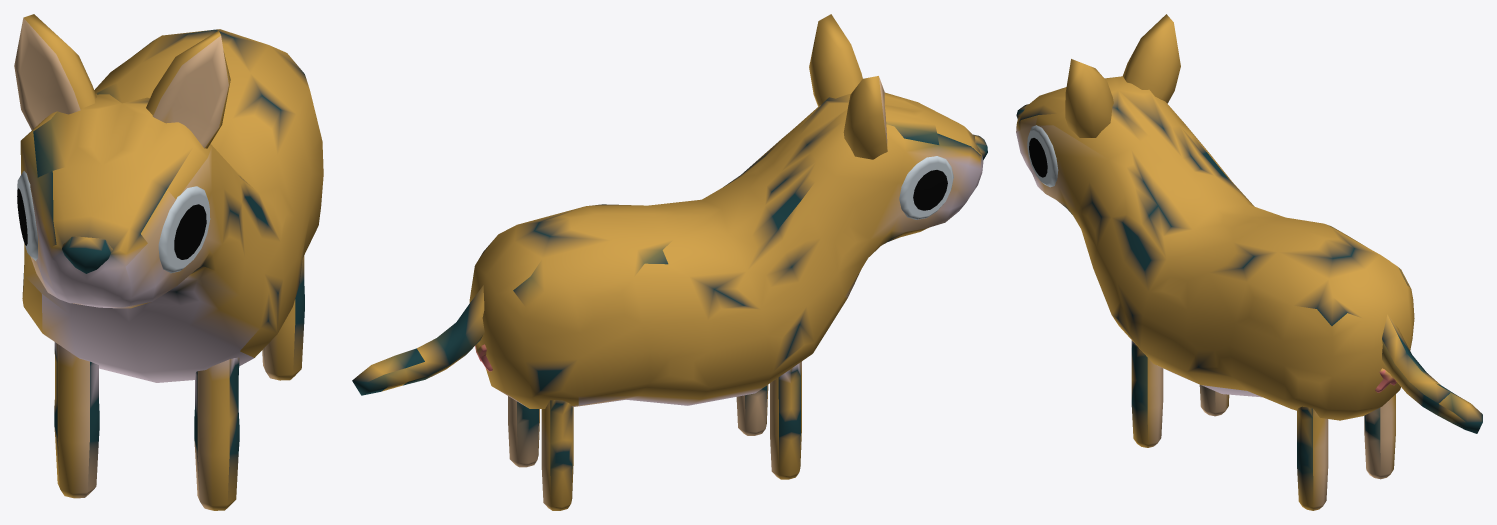
Rendered from Serval.glb.
The picture shows the model from 3 angles, left to right: view 1: azimuth 30°, elevation 25°; view 2: azimuth 150°, elevation 25°; view 3: azimuth 270°, elevation 25°; orthographic projection. The views are drawn at different scales.
Parts seen in each view (by area): view 1: 149; view 2: 149; view 3: 149.
Boxes of the visible parts, x1,y1,x2,y2 form: 149: (14, 14, 323, 510); 149: (352, 14, 987, 510); 149: (1016, 14, 1482, 510).
Size of the model in its own units: 0.8759 by 0.8379 by 0.9615.
